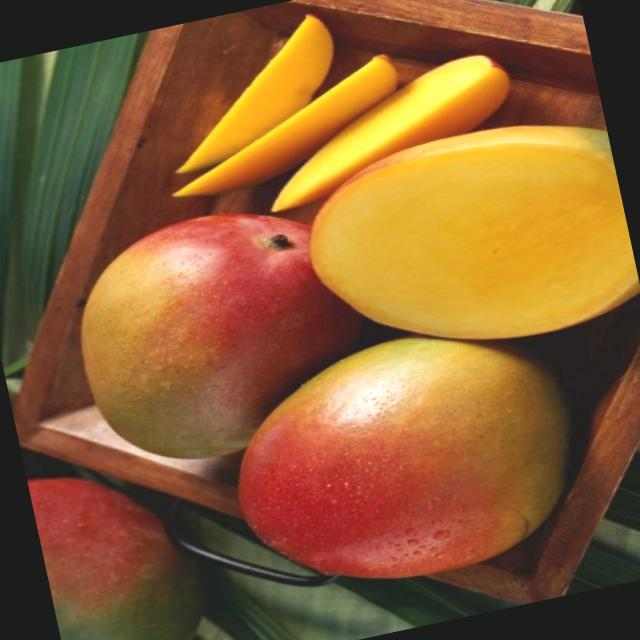mango: (210, 310, 588, 622), (62, 190, 380, 474)
